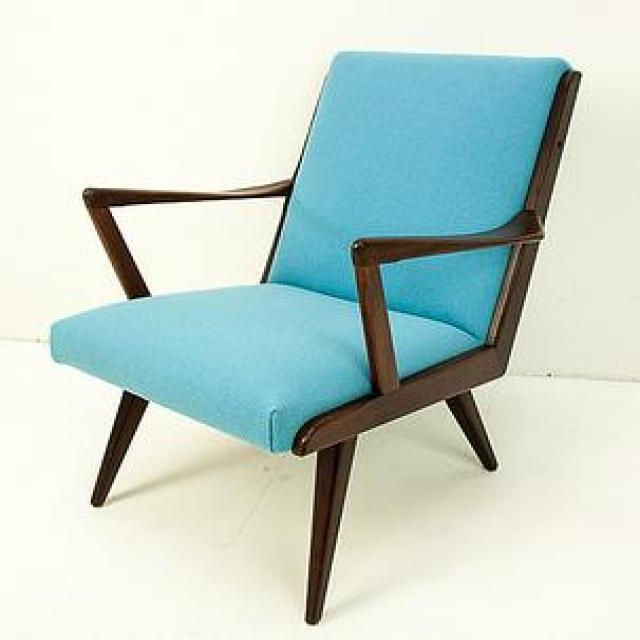chair: (46, 48, 581, 624)
